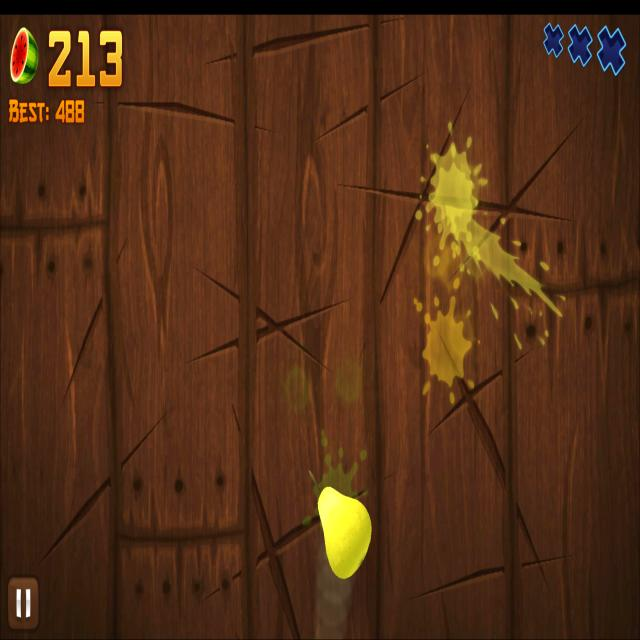fruit: (316, 486, 372, 580)
